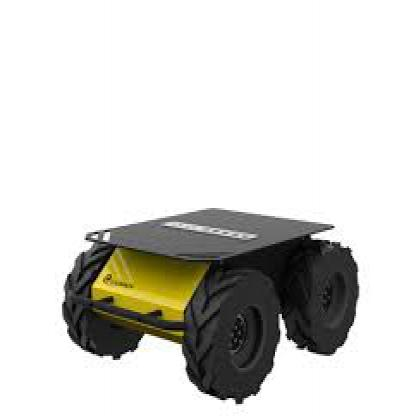UGV: (62, 208, 359, 404)
